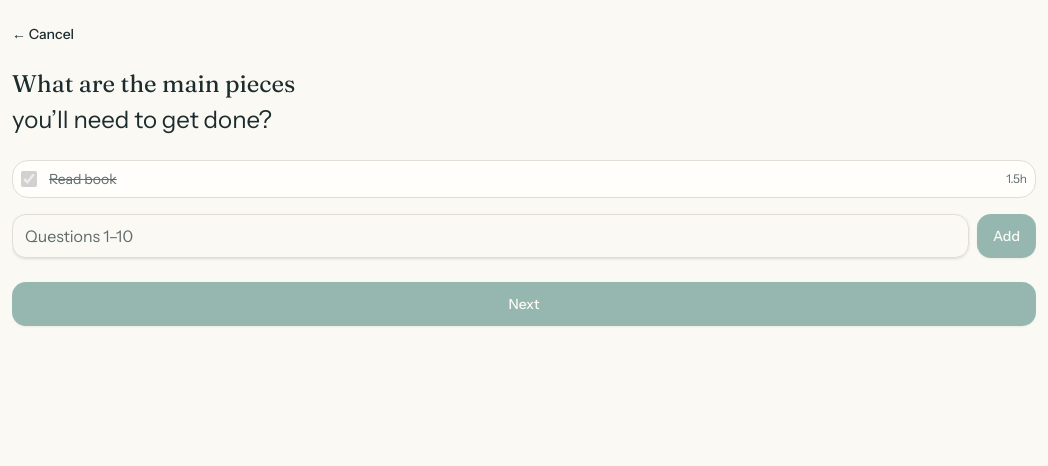
Scenario: WorkBreakdownPage › lets the student proceed once a new item is added, even when every existing item is already complete
Expected: the button "Next" is disabled, [12,282,1036,326]
Type "Write report" into the field with placeholder "Questions 1–10".
click(490, 236); type("Write report")  # box [12,214,969,258]
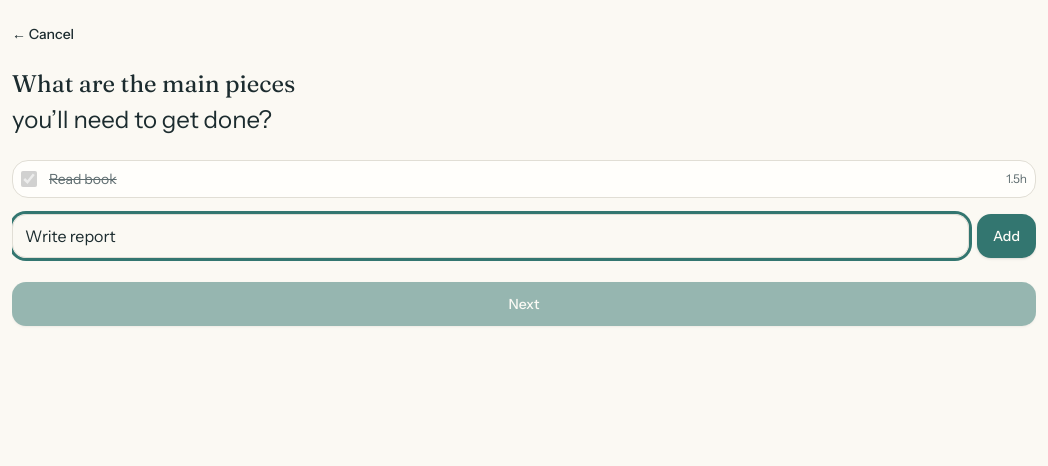
Click the button "Add".
click(1006, 236)  # box [977,214,1036,258]
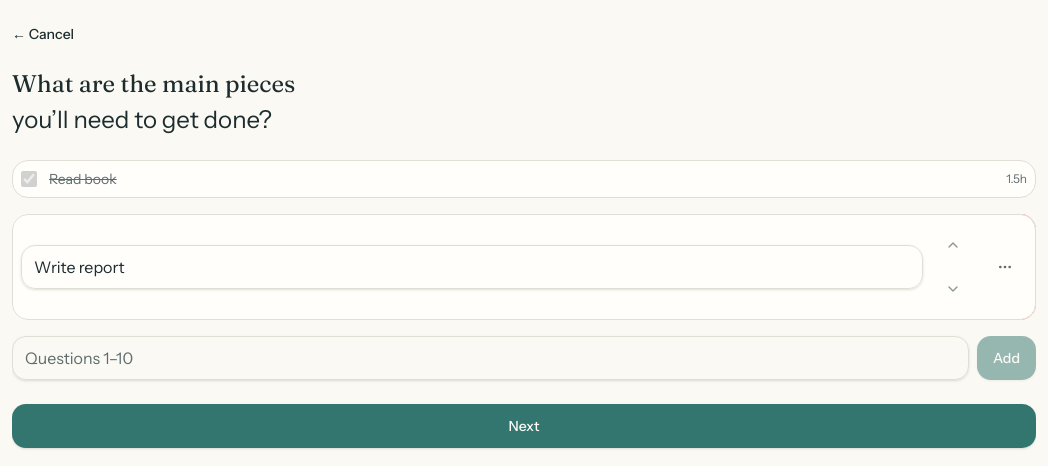
Result: the button "Next" is enabled at [12,404,1036,448]
